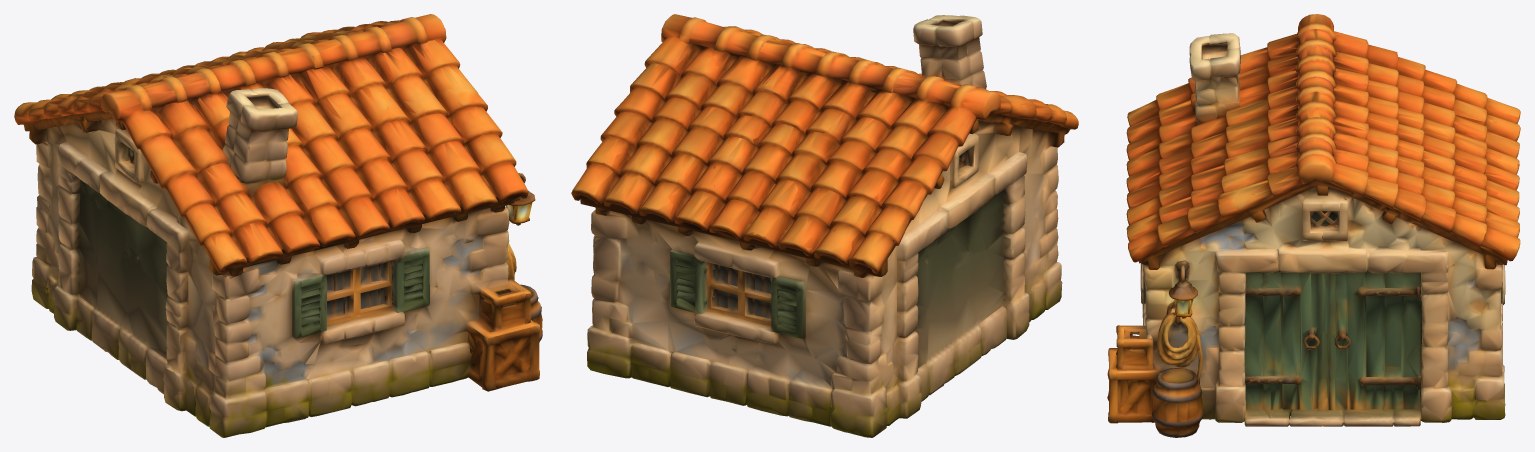
File: Piece18.fbx
The picture shows the model from 3 angles, left to right: view 1: azimuth 30°, elevation 25°; view 2: azimuth 150°, elevation 25°; view 3: azimuth 270°, elevation 25°; orthographic projection. The views are drawn at different scales.
Parts seen in each view (by area): view 1: Piece18; view 2: Piece18; view 3: Piece18.
Boxes of the visible parts, x1,y1,x2,y2 form: Piece18: (14,14,542,437); Piece18: (571,14,1078,437); Piece18: (1107,14,1520,437).
Bounding box in the file's own units: 93.29 × 74.64 × 100.
Materials: 1 (1 with a texture image).
